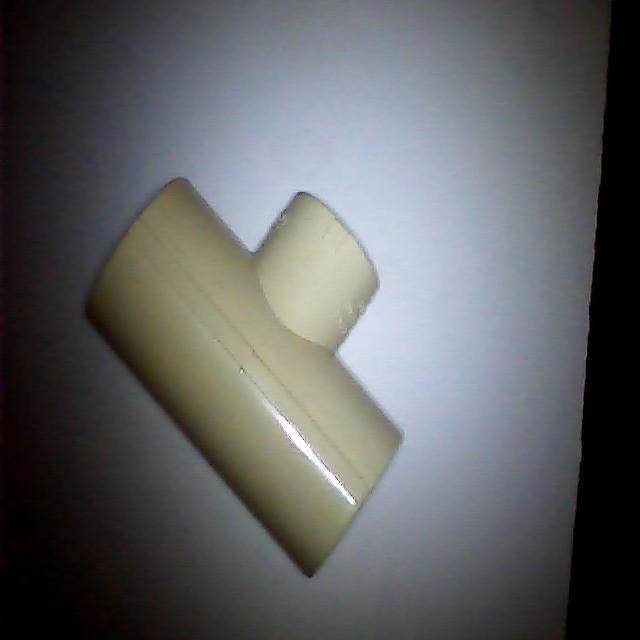T Joint: (89, 184, 400, 576)
